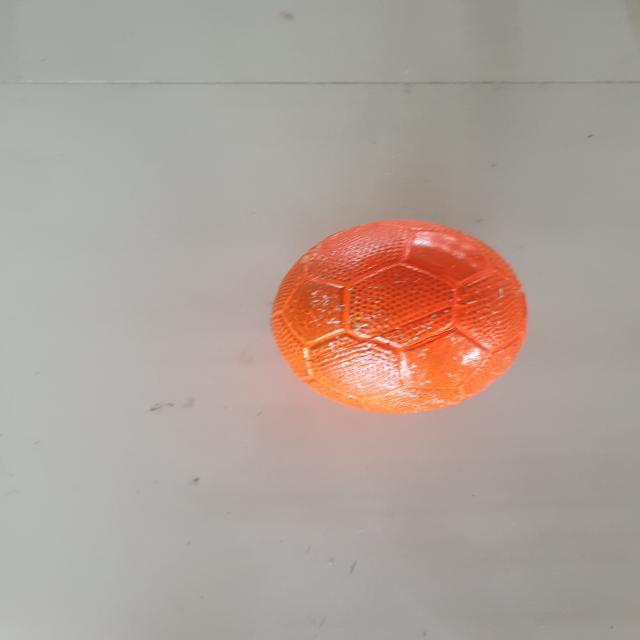bola: (246, 216, 560, 427)
